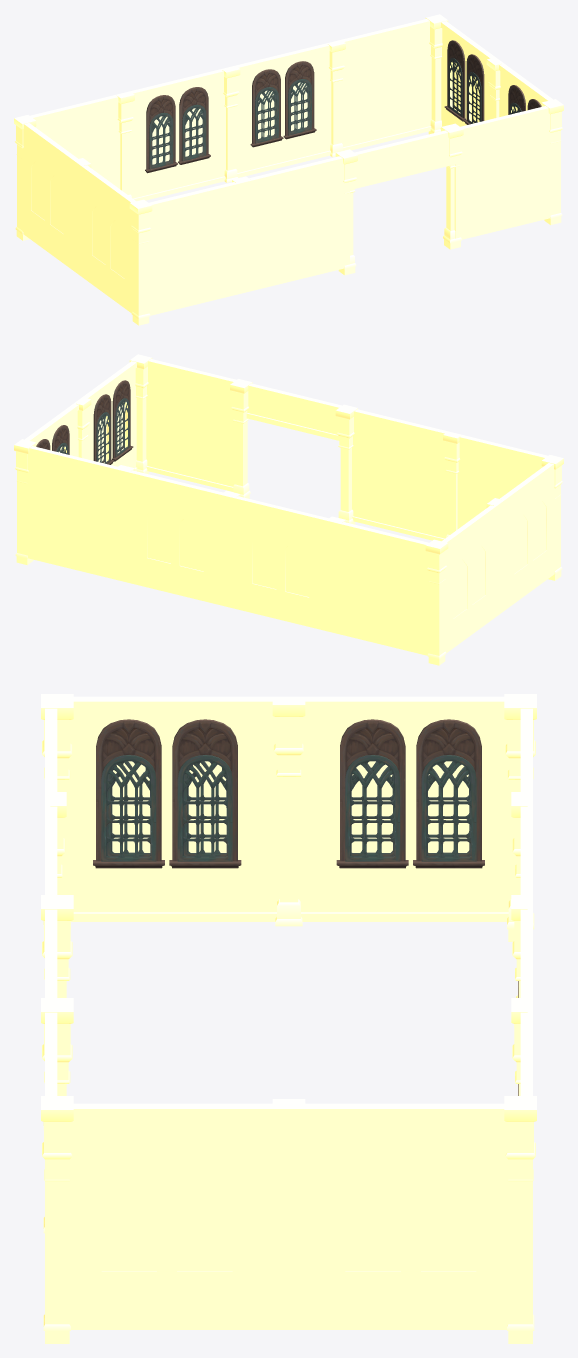
Rendered from Homeworld_Interior_Md_Room_M_Wall_01_Vo.fbx.
3 renders of one model, top to bottom at view 1: azimuth 30°, elevation 25°; view 2: azimuth 150°, elevation 25°; view 3: azimuth 270°, elevation 25°, orthographic. The views are drawn at different scales.
Visible parts, largest first — view 1: Homeworld_Interior_Md_Room_Wall_01_Vo (×5), Homeworld_Interior_Md_Room_Wall_02_Vo (×6), Homeworld_Interior_Md_Room_M_Filling_01_Vo, Homeworld_Interior_Md_Room_Pillar_01_Vo (×6), Homeworld_Interior_Md_Room_Pillar_02_Vo (×4), Homeworld_Interior_Md_Room_Wall_08_Vo; view 2: Homeworld_Interior_Md_Room_Wall_01_Vo (×5), Homeworld_Interior_Md_Room_Wall_02_Vo (×6), Homeworld_Interior_Md_Room_Pillar_01_Vo (×6), Homeworld_Interior_Md_Room_M_Filling_01_Vo, Homeworld_Interior_Md_Room_Wall_08_Vo, Homeworld_Interior_Md_Room_Pillar_02_Vo (×2); view 3: Homeworld_Interior_Md_Room_Wall_02_Vo (×6), Homeworld_Interior_Md_Room_M_Filling_01_Vo, Homeworld_Interior_Md_Room_Pillar_01_Vo (×6), Homeworld_Interior_Md_Room_Pillar_02_Vo (×5), Homeworld_Interior_Md_Room_Wall_01_Vo (×5), Homeworld_Interior_Md_Room_Wall_08_Vo.
Part boxes in pixels (x1,y1,x2,y2): Homeworld_Interior_Md_Room_Wall_01_Vo (×5): [17, 19, 560, 315]; Homeworld_Interior_Md_Room_Wall_02_Vo (×6): [18, 21, 560, 314]; Homeworld_Interior_Md_Room_M_Filling_01_Vo: [31, 62, 519, 278]; Homeworld_Interior_Md_Room_Pillar_01_Vo (×6): [14, 14, 563, 325]; Homeworld_Interior_Md_Room_Pillar_02_Vo (×4): [116, 40, 501, 197]; Homeworld_Interior_Md_Room_Wall_08_Vo: [350, 130, 455, 189]; Homeworld_Interior_Md_Room_Wall_01_Vo (×5): [17, 359, 560, 655]; Homeworld_Interior_Md_Room_Wall_02_Vo (×6): [25, 361, 559, 654]; Homeworld_Interior_Md_Room_Pillar_01_Vo (×6): [14, 354, 563, 665]; Homeworld_Interior_Md_Room_M_Filling_01_Vo: [58, 402, 546, 618]; Homeworld_Interior_Md_Room_Wall_08_Vo: [246, 383, 341, 440]; Homeworld_Interior_Md_Room_Pillar_02_Vo (×2): [76, 397, 461, 537]; Homeworld_Interior_Md_Room_Wall_02_Vo (×6): [52, 696, 532, 1329]; Homeworld_Interior_Md_Room_M_Filling_01_Vo: [101, 761, 476, 1270]; Homeworld_Interior_Md_Room_Pillar_01_Vo (×6): [41, 694, 536, 1343]; Homeworld_Interior_Md_Room_Pillar_02_Vo (×5): [50, 698, 527, 1095]; Homeworld_Interior_Md_Room_Wall_01_Vo (×5): [45, 708, 532, 1324]; Homeworld_Interior_Md_Room_Wall_08_Vo: [45, 909, 57, 997].
Size of what is drawn, in the model's own units: 20.17 by 5.34 by 10.17.
